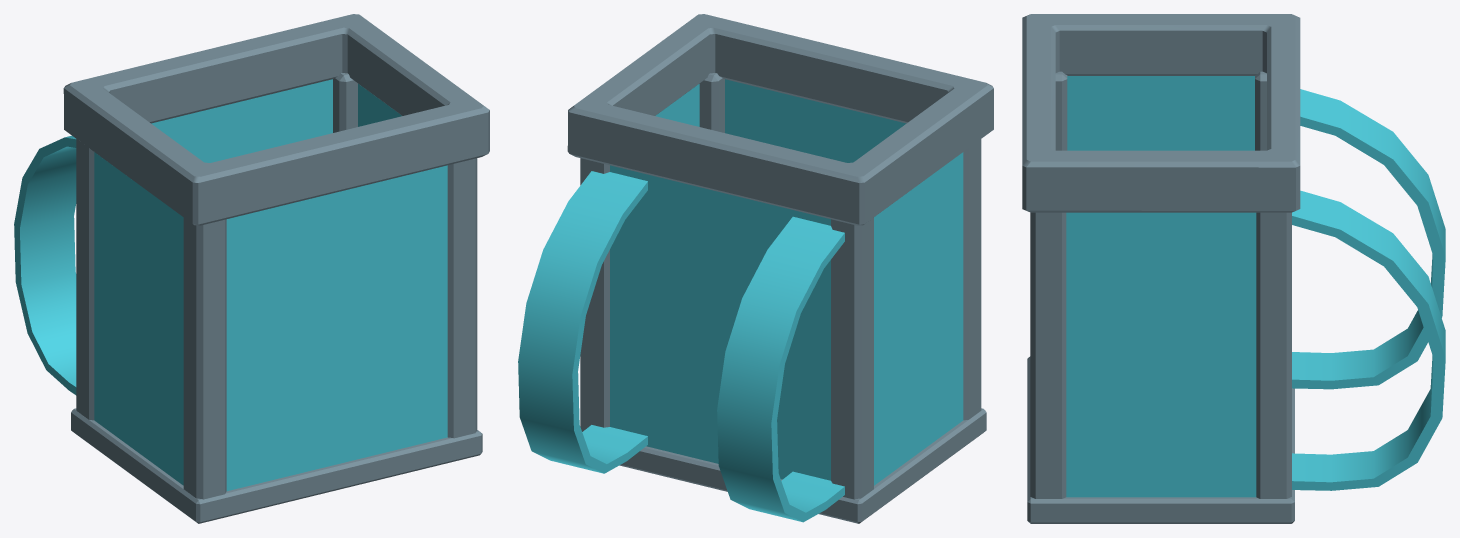
3 renders of one model, left to right at view 1: azimuth 30°, elevation 25°; view 2: azimuth 150°, elevation 25°; view 3: azimuth 270°, elevation 25°, orthographic. The views are drawn at different scales.
Visible parts, largest first — view 1: Balo_3; view 2: Balo_3; view 3: Balo_3.
Part boxes in pixels (box(x1,y1,x2,y2)): Balo_3: box(14, 14, 489, 523); Balo_3: box(518, 14, 993, 523); Balo_3: box(1022, 14, 1445, 523).
Bounding box in the file's own units: 109 × 122 × 129.
